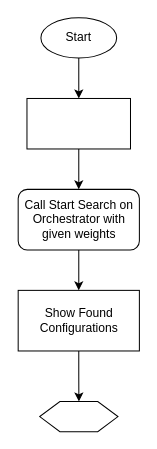
This 157x449 diagram has some shape labels left out. The centre of each missing label's shape, as x and y in pixels:
"END" belongs at (x=78, y=416).
"Prompt user for weights" belongs at (x=78, y=123).
